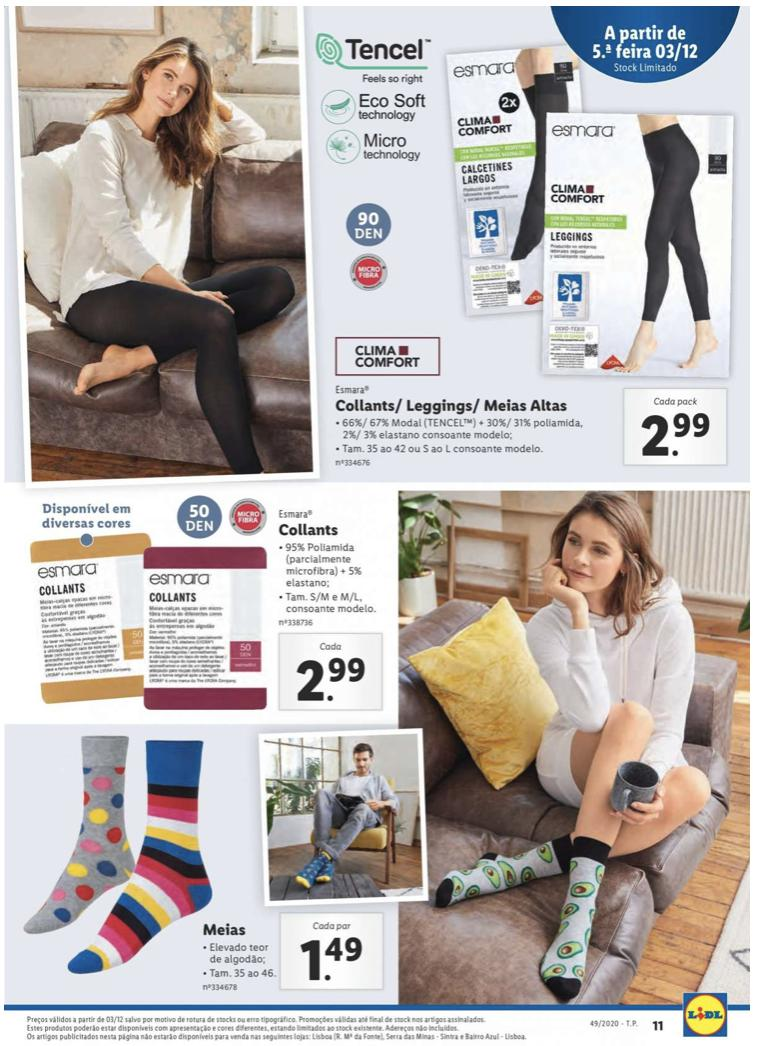name: (334, 397, 570, 416), (274, 520, 341, 540), (199, 919, 248, 941)
price: (291, 654, 368, 709), (637, 409, 712, 459), (296, 933, 369, 984)
product: (306, 24, 746, 471), (9, 735, 399, 998), (20, 487, 387, 718)
